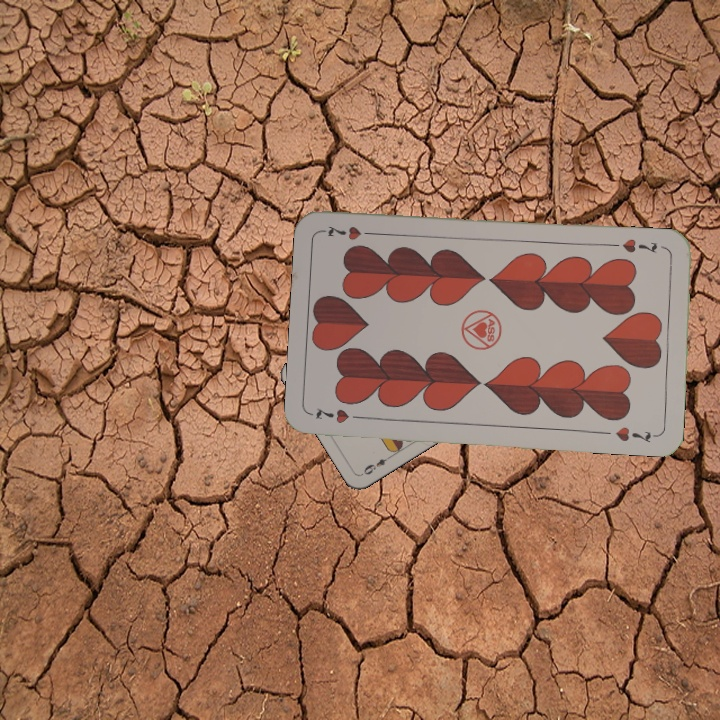E9: (358, 451, 395, 478)
H7: (309, 404, 368, 426), (618, 234, 660, 256)
